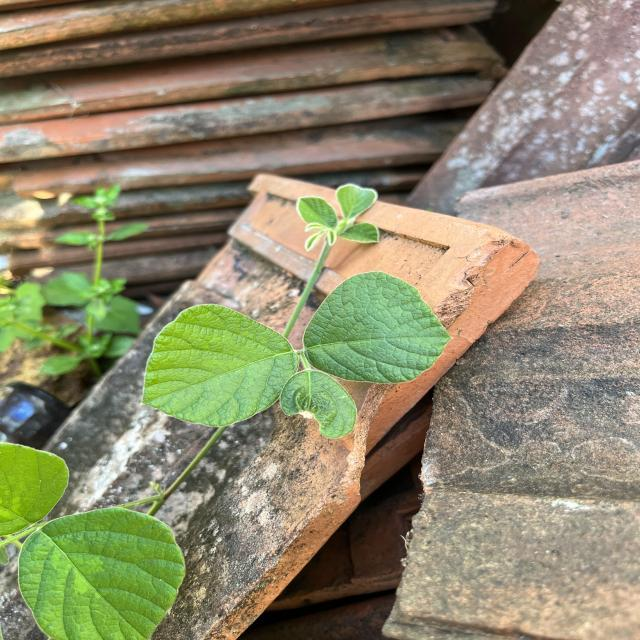Pseudarthria viscida: (139, 269, 456, 441)
